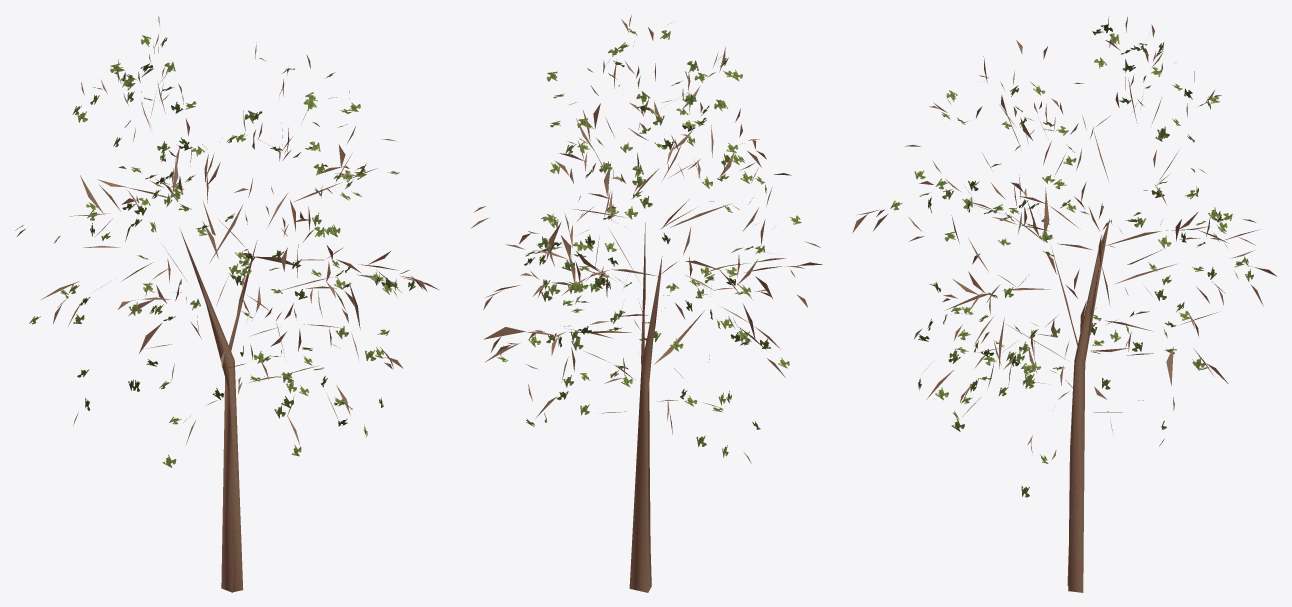
Rendered from roble1.glb.
3 renders of one model, left to right at view 1: azimuth 30°, elevation 25°; view 2: azimuth 150°, elevation 25°; view 3: azimuth 270°, elevation 25°, orthographic.
Parts seen in each view (by area): view 1: tronco, hojas; view 2: tronco, hojas; view 3: tronco, hojas.
Boxes of the visible parts, x1=… form: tronco: x1=17, y1=16, x2=438, y2=592; hojas: x1=15, y1=35, x2=415, y2=467; tronco: x1=470, y1=15, x2=822, y2=592; hojas: x1=496, y1=28, x2=801, y2=457; tronco: x1=852, y1=16, x2=1276, y2=592; hojas: x1=890, y1=24, x2=1253, y2=497.
Bounding box in the file's own units: 10.27 × 16.14 × 11.37.
Materials: 2 (2 with a texture image).
